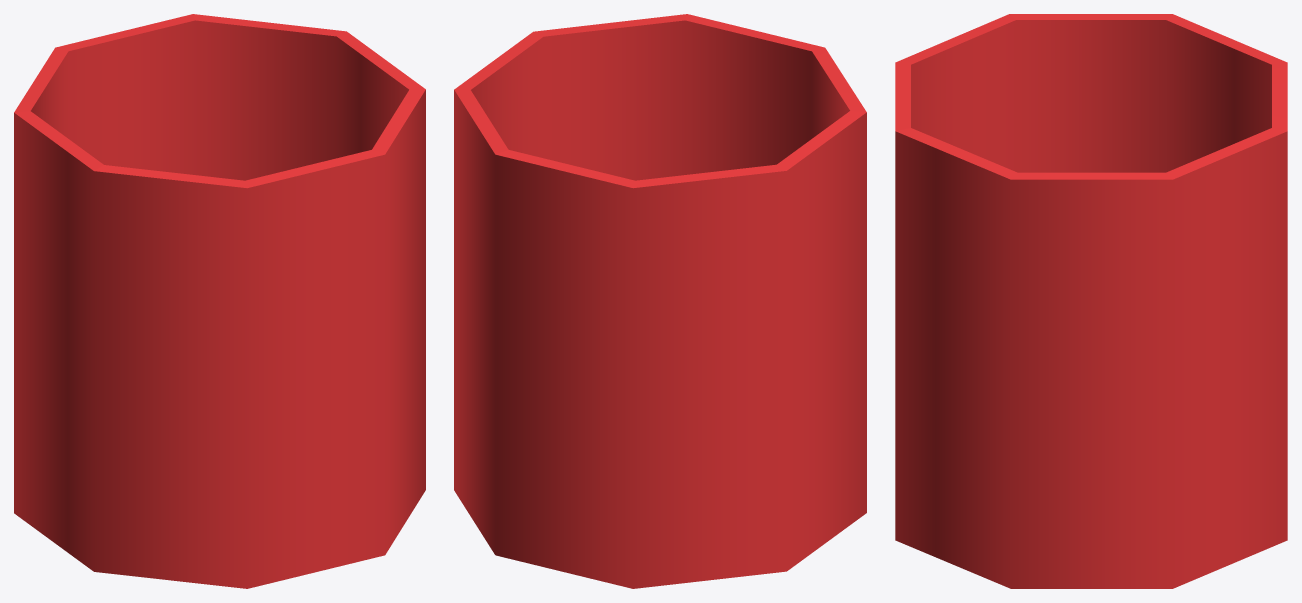
File: Itr_Lamp_Cap2_05.FBX
3 renders of one model, left to right at view 1: azimuth 30°, elevation 25°; view 2: azimuth 150°, elevation 25°; view 3: azimuth 270°, elevation 25°, orthographic. The views are drawn at different scales.
Parts seen in each view (by area): view 1: Itr_Lamp_Cap2_05; view 2: Itr_Lamp_Cap2_05; view 3: Itr_Lamp_Cap2_05.
Part boxes in pixels (bbox=[...]): Itr_Lamp_Cap2_05: bbox=[14, 14, 425, 588]; Itr_Lamp_Cap2_05: bbox=[454, 14, 866, 588]; Itr_Lamp_Cap2_05: bbox=[895, 14, 1287, 588].
Size of the model in its own units: 7.69 by 8.87 by 7.69.
